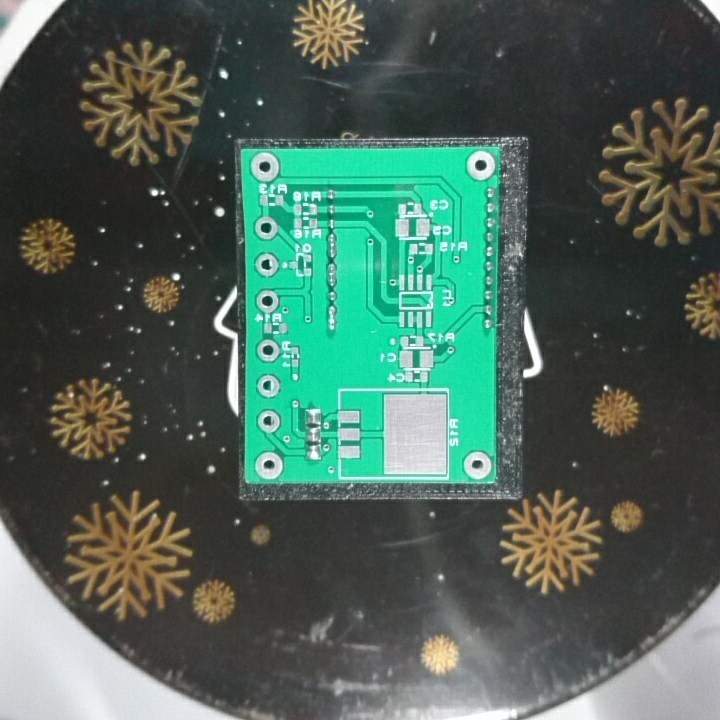F: (464, 149, 497, 182), (248, 150, 280, 184), (252, 449, 285, 480), (462, 450, 493, 480), (252, 250, 282, 280), (252, 213, 281, 241), (254, 372, 284, 398), (254, 289, 281, 315), (255, 408, 282, 434), (254, 338, 282, 363)
P: (324, 304, 339, 333), (324, 232, 339, 261), (324, 262, 339, 287)
